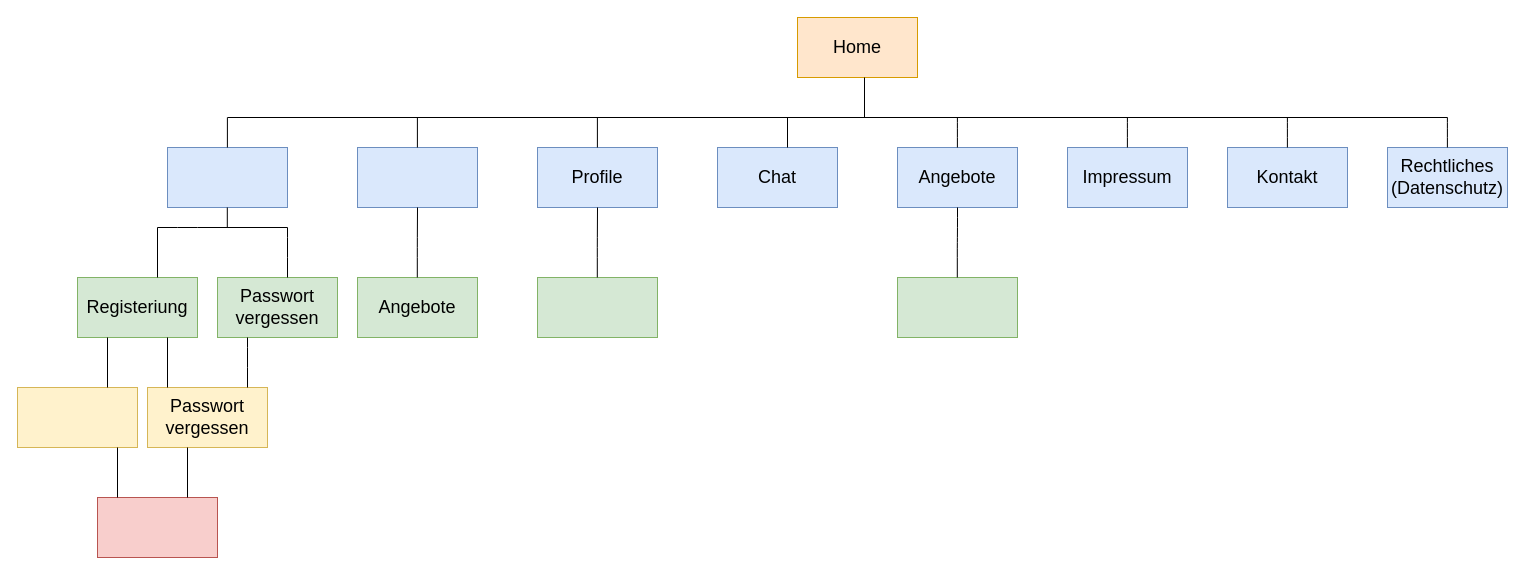
Some shapes in this 1525 by 575 pixel diagram are drawn without their labels. Each missing label, with the centre of its shape:
"Angebot bearbeiten" goes at pixel 957 307.
"Login" goes at pixel 227 177.
"Profil bearbeiten" goes at pixel 597 307.
"Pseudo-Mail" goes at pixel 157 527.
"Suche" goes at pixel 417 177.
"Validierung" goes at pixel 77 417.
